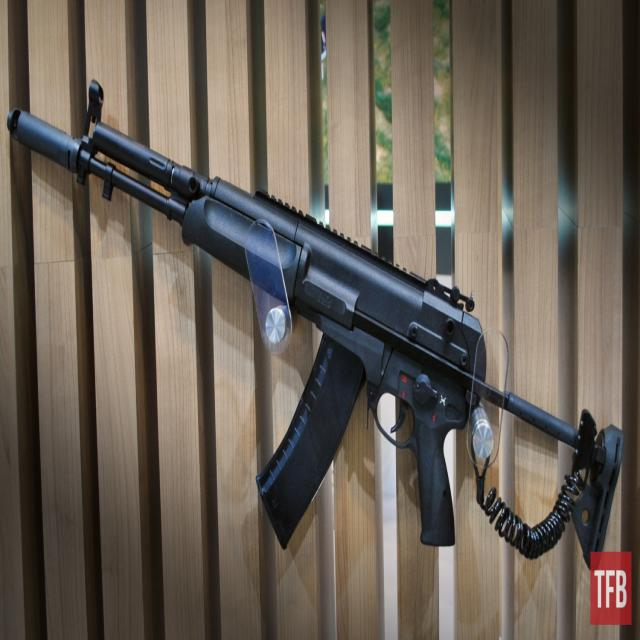Rifle: (7, 110, 624, 555)
